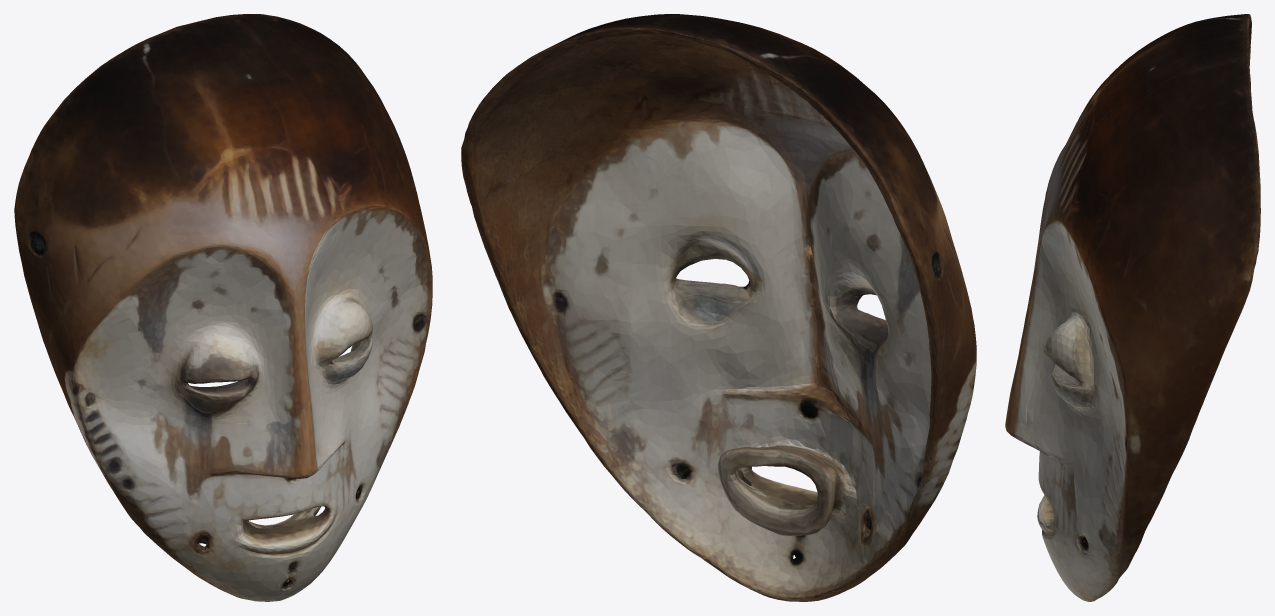
File: whiteface.glb
The picture shows the model from 3 angles, left to right: view 1: azimuth 30°, elevation 25°; view 2: azimuth 150°, elevation 25°; view 3: azimuth 270°, elevation 25°; orthographic projection. The views are drawn at different scales.
Visible parts, largest first — view 1: world; view 2: world; view 3: world.
Boxes of the visible parts, x1,y1,x2,y2 form: world: [14, 14, 432, 601]; world: [461, 14, 976, 601]; world: [1005, 14, 1260, 601].
Bounding box in the file's own units: 0.7631 × 0.9996 × 0.4209.
Materials: 1 (1 with a texture image).
